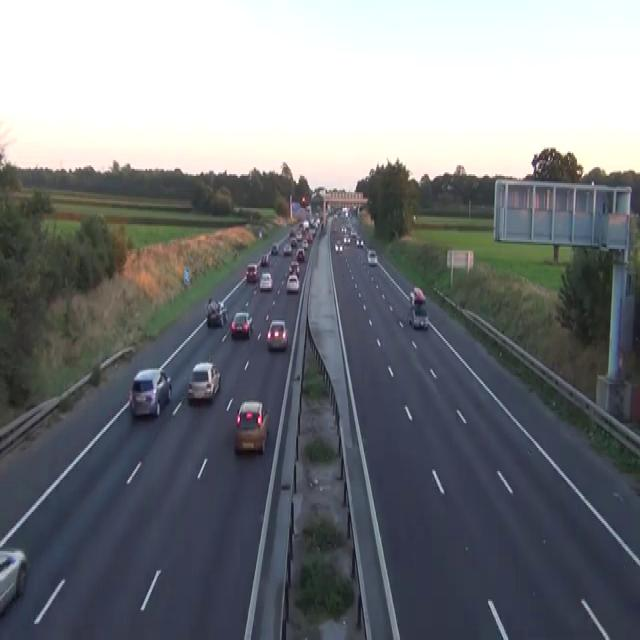Car: (129, 366, 172, 418), (233, 400, 269, 453), (0, 548, 28, 615), (186, 361, 220, 402), (266, 318, 287, 350), (205, 297, 227, 327), (230, 311, 253, 338), (408, 304, 428, 329), (409, 286, 426, 306), (285, 274, 299, 293), (259, 270, 272, 290), (245, 263, 258, 281), (289, 260, 300, 276), (367, 249, 377, 265), (334, 238, 343, 252), (260, 252, 269, 266), (296, 247, 304, 261), (271, 242, 278, 254), (283, 244, 291, 254), (301, 238, 308, 249), (356, 237, 363, 247), (302, 221, 309, 231), (296, 229, 302, 240), (342, 206, 348, 217), (350, 231, 357, 240), (343, 234, 350, 243), (306, 233, 313, 242), (300, 196, 306, 206), (290, 237, 296, 247), (289, 228, 295, 236), (258, 228, 262, 238)
